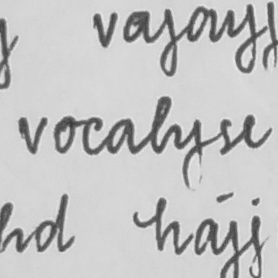a: (105, 116, 138, 158)
c: (81, 115, 104, 157)
e: (240, 111, 275, 151)
l: (148, 94, 171, 155)
o: (51, 114, 79, 155)
s: (216, 116, 234, 157)
v: (16, 114, 49, 156)
y: (172, 116, 206, 192)
